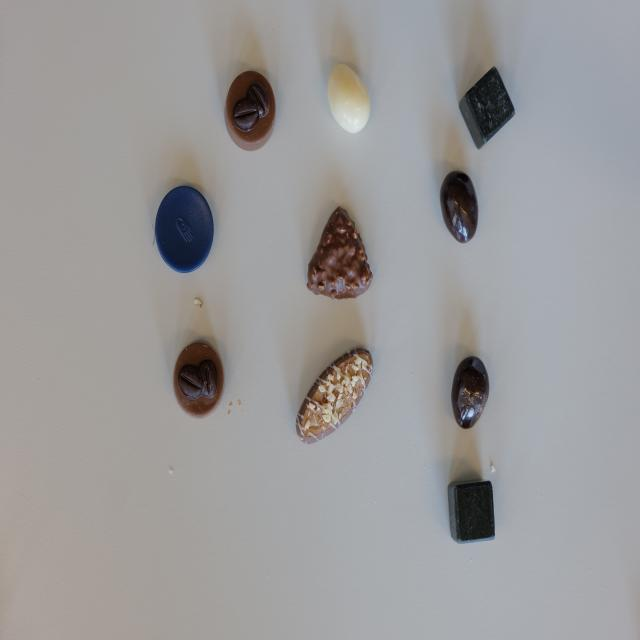Amandina: (296, 347, 374, 445)
Arabia: (226, 69, 275, 151), (173, 341, 224, 419)
Jelly_Black: (440, 168, 480, 245), (451, 356, 490, 430)
Jelly_White: (326, 63, 371, 134)
Triangolo: (306, 206, 373, 298)
